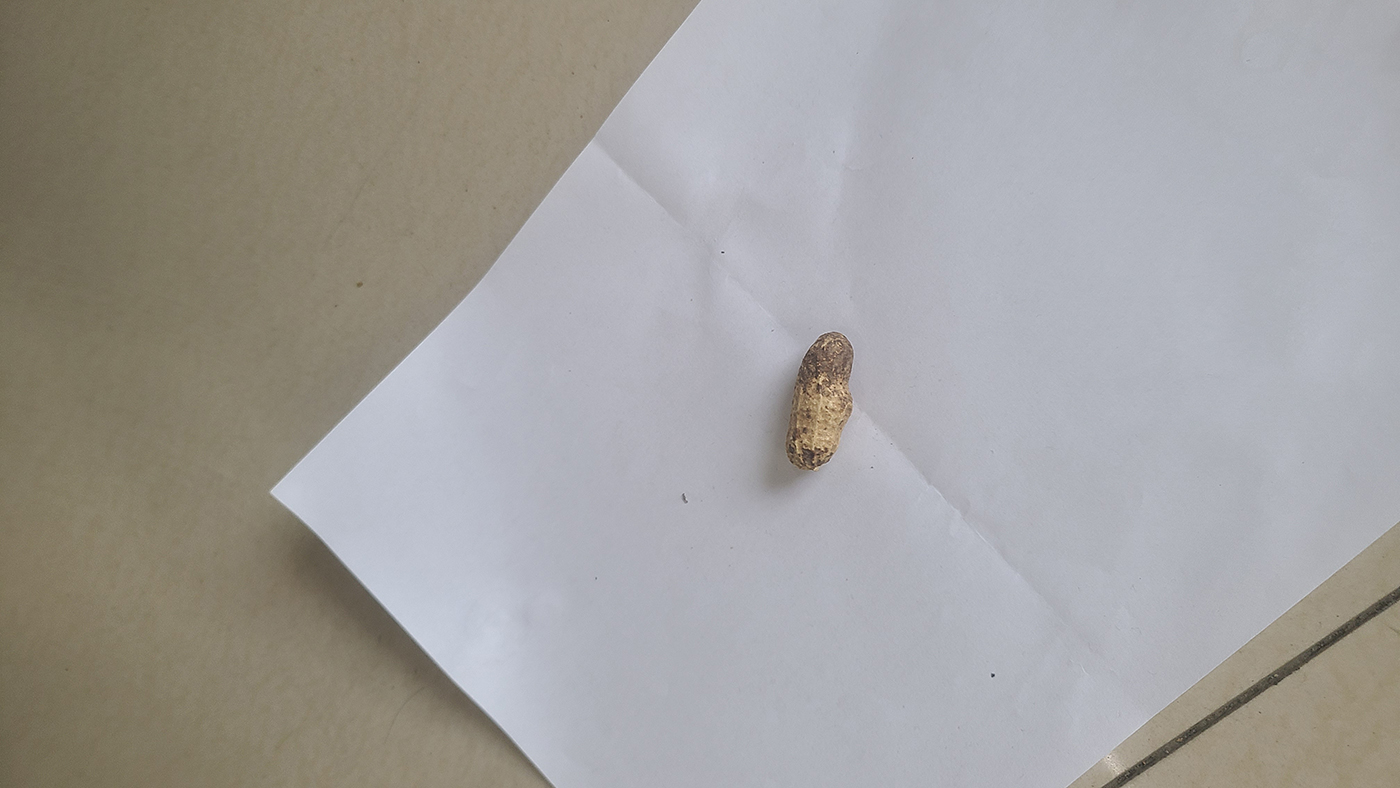h: (783, 330, 854, 474)
